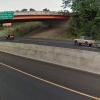Bridge: (2, 6, 71, 30)
